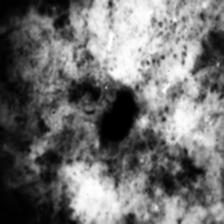Potentially Malignant Skin Tumors: (102, 97, 134, 138)
